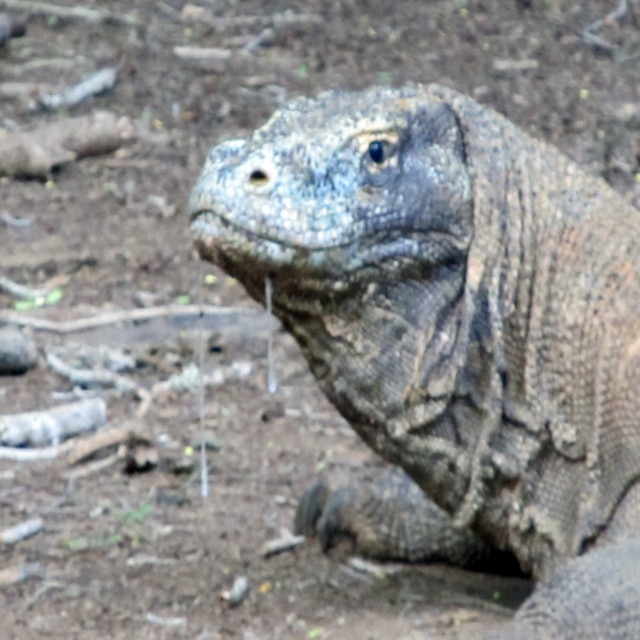Lizard: (189, 82, 640, 640)
